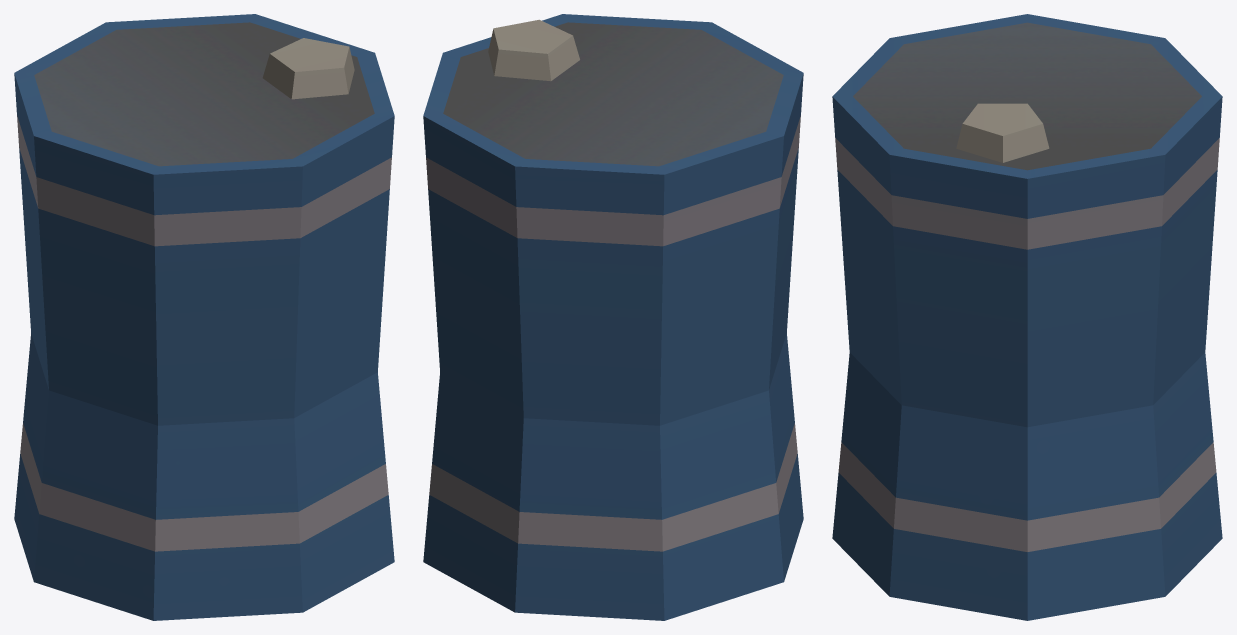
File: SM_Barrel_2C.FBX
3 views of the same model, side by side, from view 1: azimuth 30°, elevation 25°; view 2: azimuth 150°, elevation 25°; view 3: azimuth 270°, elevation 25° (orthographic).
Visible parts, largest first — view 1: SM_Barrel_2C; view 2: SM_Barrel_2C; view 3: SM_Barrel_2C.
Part boxes in pixels (<box>): SM_Barrel_2C: <box>14,14,394,620</box>; SM_Barrel_2C: <box>423,14,803,620</box>; SM_Barrel_2C: <box>832,14,1222,620</box>.
Size of what is drawn, in the model's own units: 82.8 by 82.8 by 109.
